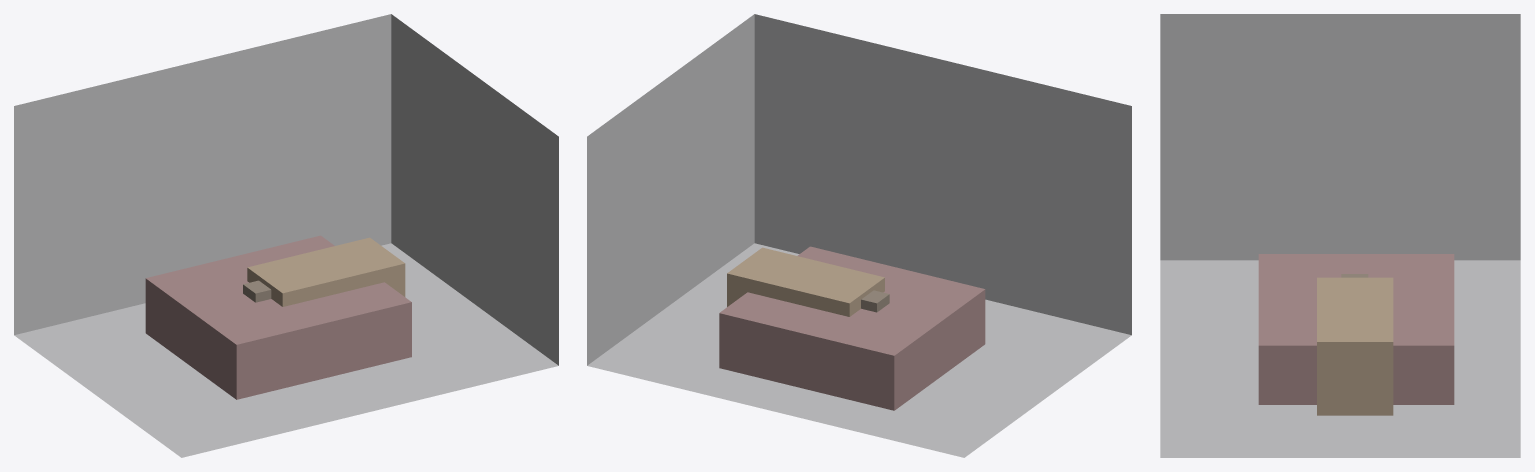
The model's file is current_layout.glb.
The picture shows the model from 3 angles, left to right: view 1: azimuth 30°, elevation 25°; view 2: azimuth 150°, elevation 25°; view 3: azimuth 270°, elevation 25°; orthographic projection. The views are drawn at different scales.
Visible parts, largest first — view 1: room, bed, desk; view 2: room, bed, desk; view 3: room, bed, desk.
Boxes of the visible parts, x1,y1,x2,y2 form: room: (14,14,558,457); bed: (145,235,411,399); desk: (247,237,405,306); room: (587,14,1131,457); bed: (719,246,985,410); desk: (727,247,884,316); room: (1160,14,1520,457); bed: (1258,254,1454,404); desk: (1317,277,1393,415).
Size of the model in its own units: 4.31 by 2.5 by 3.31.
